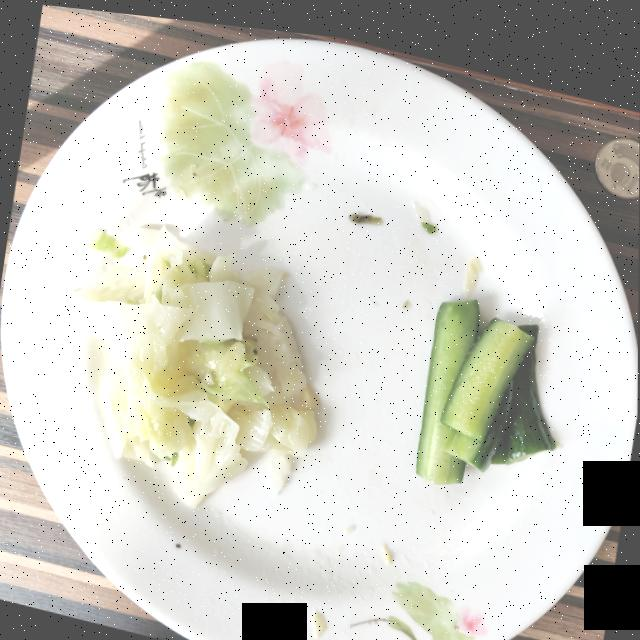cabbage: (68, 223, 319, 503)
coin: (595, 123, 640, 184)
cucumber: (416, 289, 556, 474)
